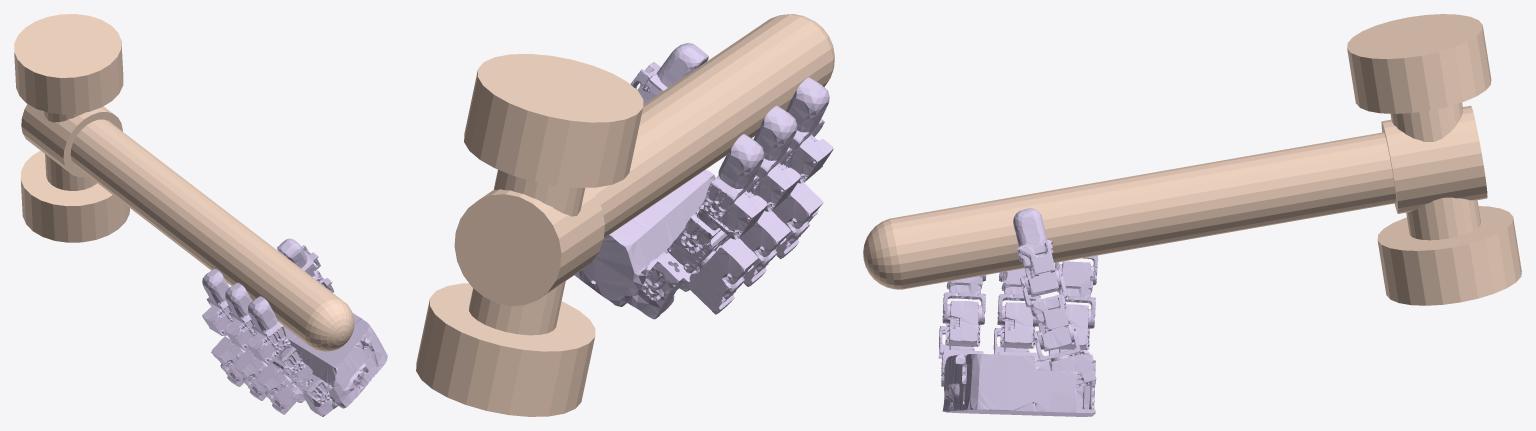
3 views of the same model, side by side, from view 1: azimuth 30°, elevation 25°; view 2: azimuth 150°, elevation 25°; view 3: azimuth 270°, elevation 25° (orthographic). The views are drawn at different scales.
Parts seen in each view (by area): view 1: world, LEAP_hand; view 2: world, LEAP_hand; view 3: world, LEAP_hand.
Boxes of the visible parts, x1,y1,x2,y2 form: world: (14, 14, 354, 351); LEAP_hand: (202, 238, 387, 416); world: (416, 14, 834, 416); LEAP_hand: (574, 42, 833, 319); world: (863, 14, 1521, 305); LEAP_hand: (938, 208, 1098, 416).
Bounding box in the file's own units: 0.2373 × 0.3137 × 0.5449.
